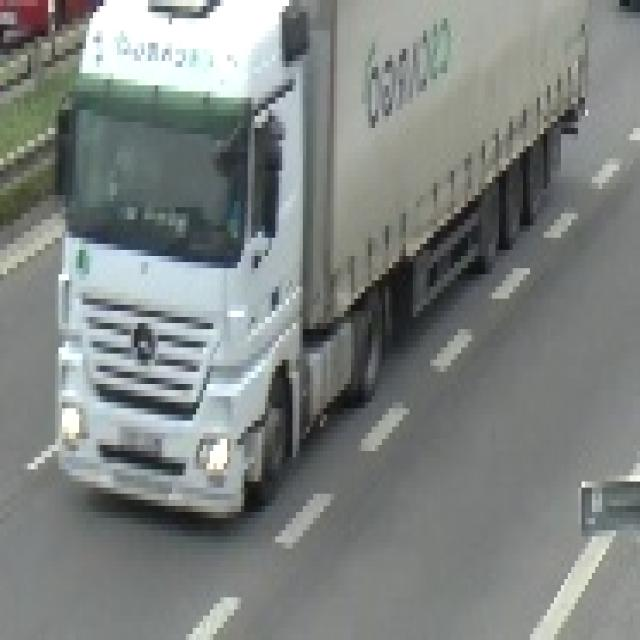TRUCK: (48, 0, 592, 518)
